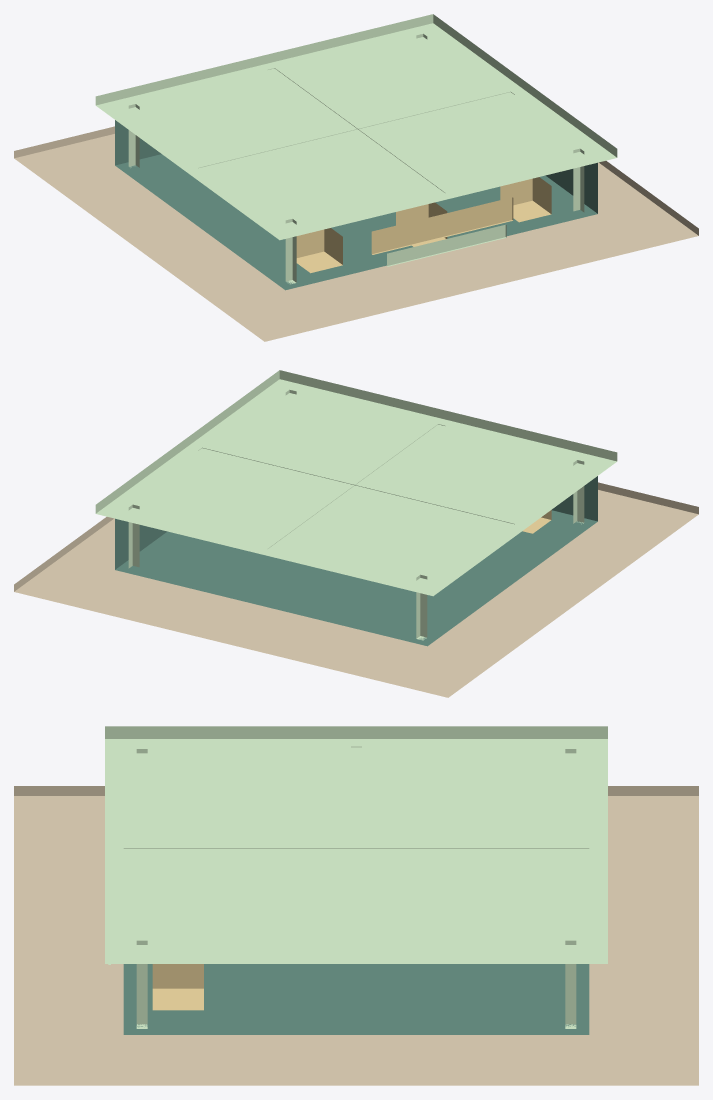
The model's file is poultry_farm.glb.
3 views of the same model, one above another, from view 1: azimuth 30°, elevation 25°; view 2: azimuth 150°, elevation 25°; view 3: azimuth 270°, elevation 25° (orthographic). The views are drawn at different scales.
Visible parts, largest first — view 1: Roof, Foundation, Walls, Details, Frame; view 2: Roof, Foundation, Walls, Frame; view 3: Roof, Foundation, Walls, Details, Frame.
Boxes of the visible parts, bbox=[...] form: Roof: bbox=[95, 14, 617, 240]; Foundation: bbox=[14, 126, 698, 341]; Walls: bbox=[115, 120, 597, 290]; Details: bbox=[296, 177, 551, 273]; Frame: bbox=[128, 33, 584, 284]; Roof: bbox=[95, 370, 617, 596]; Foundation: bbox=[14, 482, 698, 697]; Walls: bbox=[115, 476, 597, 646]; Frame: bbox=[128, 389, 584, 640]; Roof: bbox=[105, 726, 607, 963]; Foundation: bbox=[14, 786, 698, 1085]; Walls: bbox=[123, 964, 589, 1034]; Details: bbox=[108, 964, 203, 1010]; Frame: bbox=[123, 746, 589, 1028].
Bounding box in the file's own units: 40 × 6.56 × 40.
